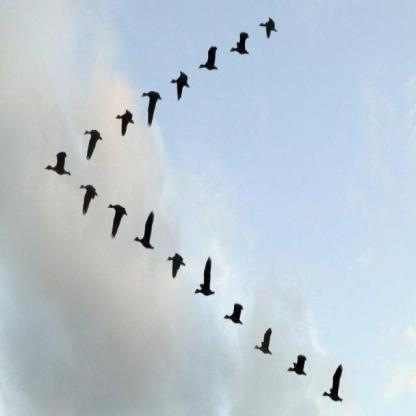bird: (321, 363, 345, 404), (133, 209, 156, 251), (194, 256, 216, 298), (141, 89, 164, 128), (107, 202, 129, 241), (83, 127, 105, 162), (78, 182, 100, 217), (46, 150, 72, 179), (170, 69, 192, 101), (165, 251, 187, 280), (115, 108, 136, 138), (254, 326, 274, 357), (229, 30, 251, 58), (198, 45, 219, 73), (257, 15, 279, 41), (287, 354, 309, 378), (223, 302, 244, 326)
